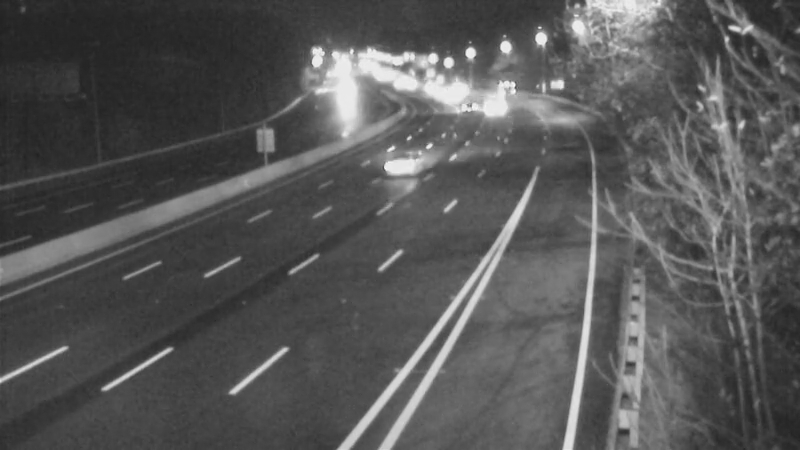vehicle: (368, 126, 448, 206), (399, 61, 449, 111), (423, 70, 473, 120), (484, 63, 534, 113), (435, 78, 485, 128), (468, 79, 518, 129)
